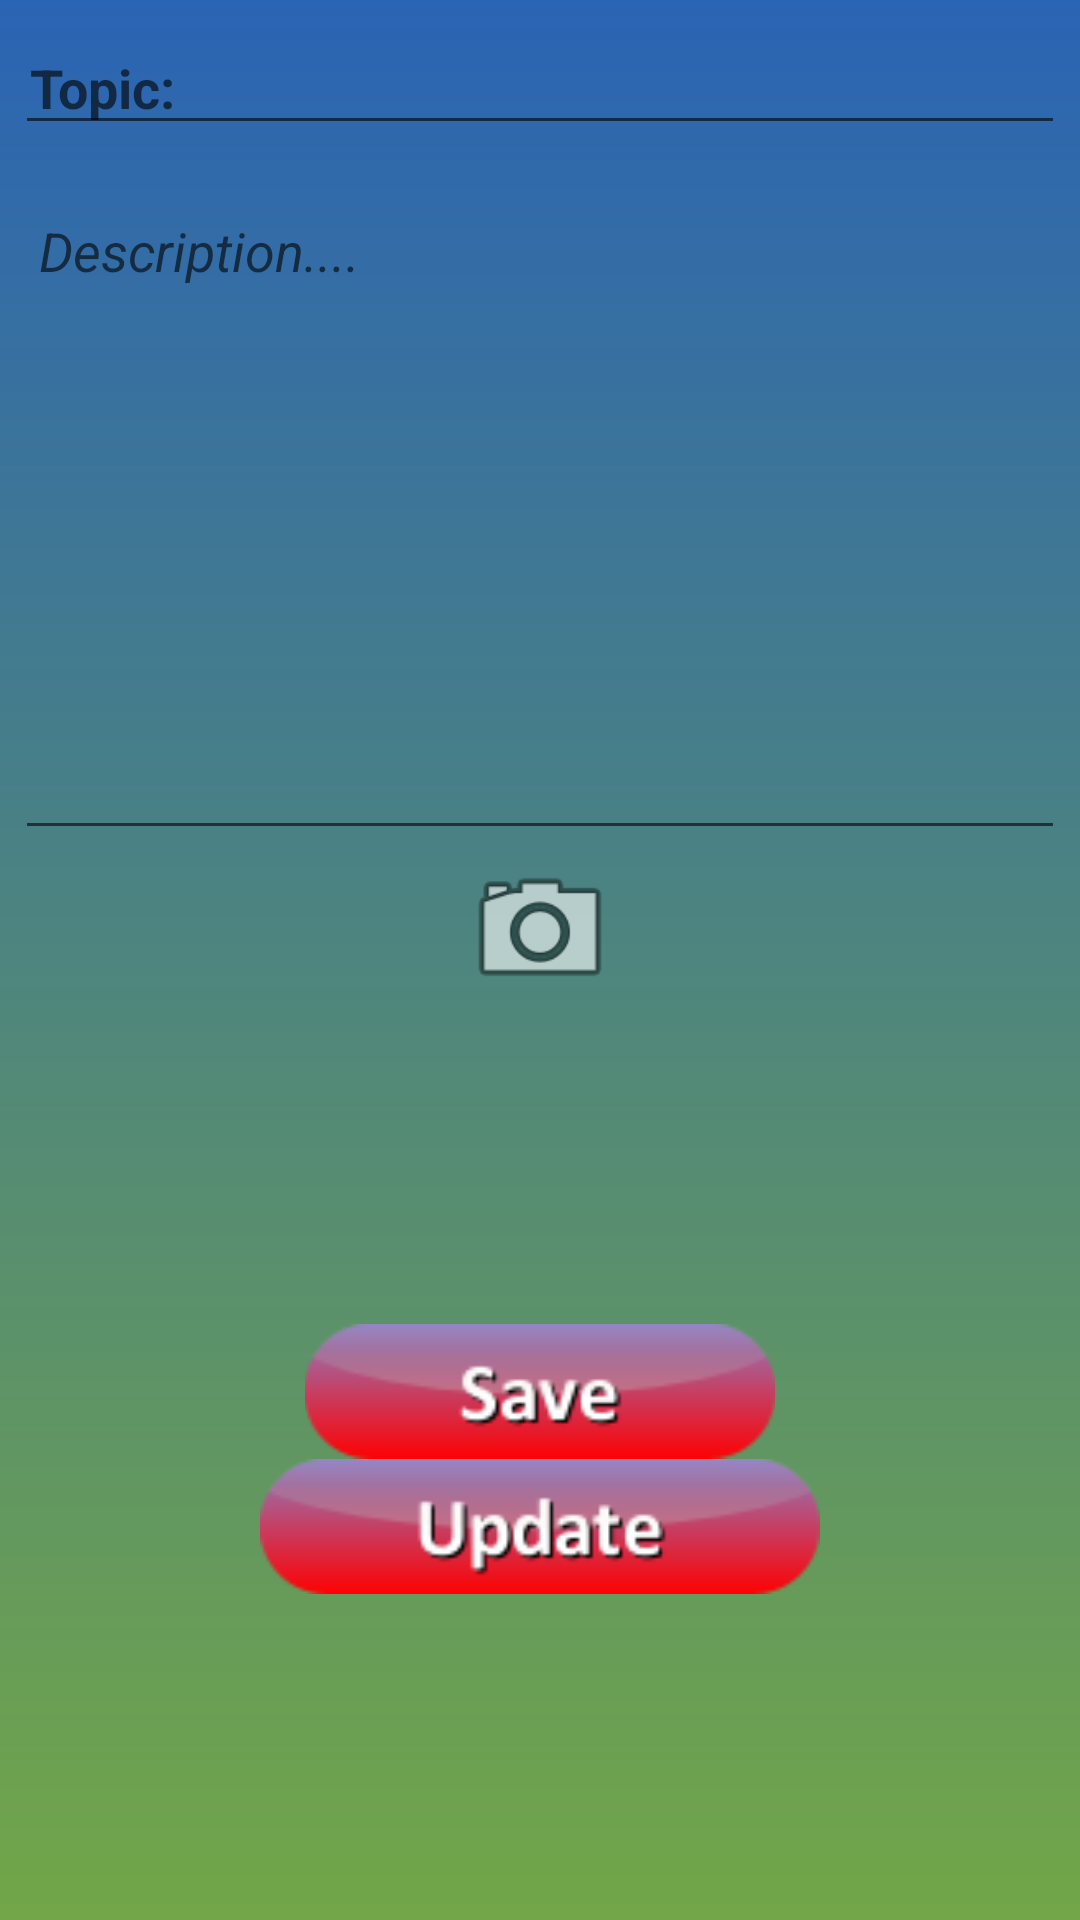

Named icons in this screenshot (1080px×1920px) and their centers, [x,y]:
camera: [540,927]
